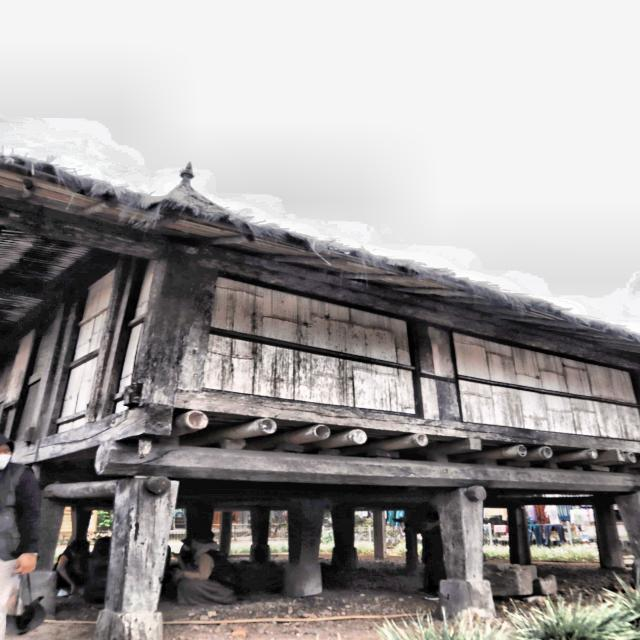column: (94, 480, 179, 640), (436, 488, 497, 619), (284, 506, 325, 596), (593, 505, 624, 567), (331, 511, 357, 568), (507, 508, 531, 565), (67, 507, 93, 552), (249, 511, 270, 562), (219, 511, 232, 556), (374, 510, 386, 558)
roof: (0, 155, 640, 356)
wall: (0, 258, 640, 451)
